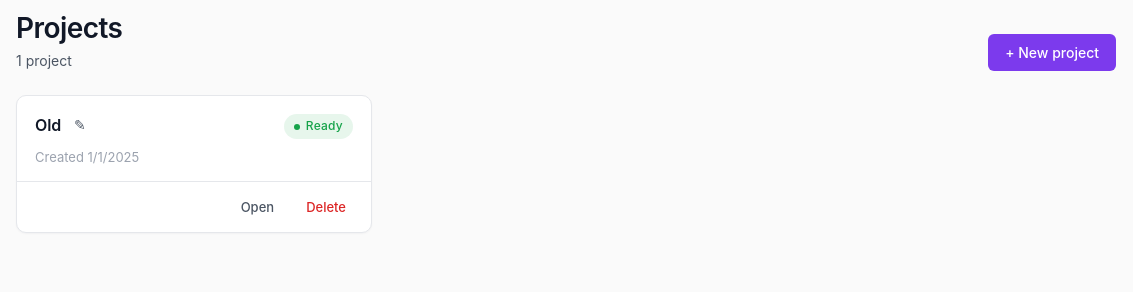
Test: ProjectListPage rename — success path (Requirements 2.2, 6.3, 6.4) › on success updates the row with the returned title/version/updatedAt
Expected: the heading "Old" is shown, [35,114,61,137]
Click the button named "Rename project" at (80, 126), box [67,116,93,136]
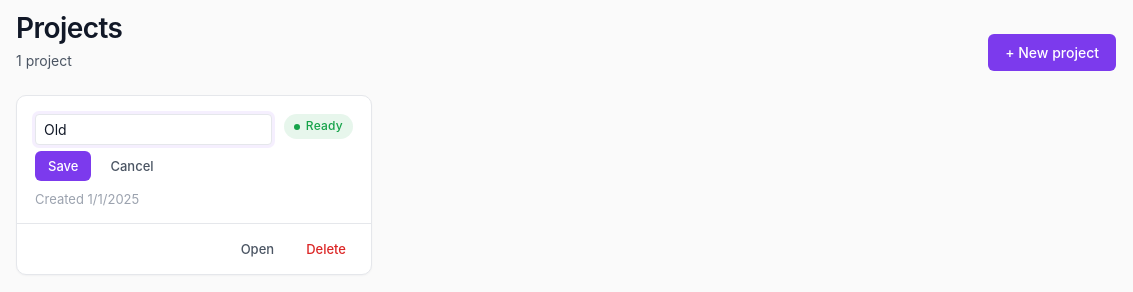
Replace the text in the field named "Project title" with "New" at (153, 130), box [35,114,272,145]
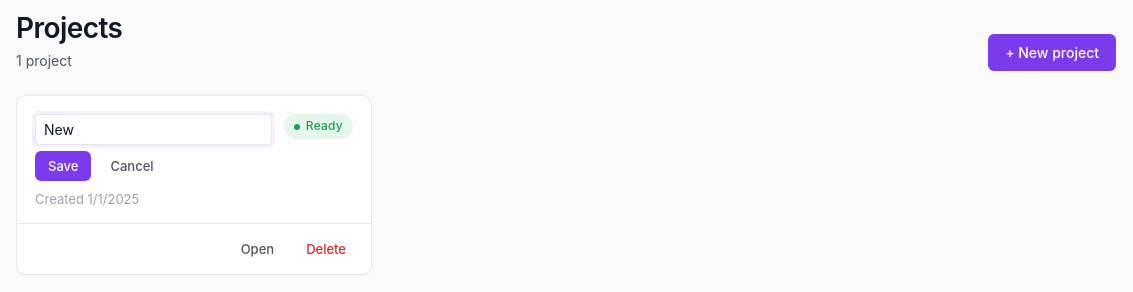
Click the button "Save" at (63, 166), box [35,151,91,181]
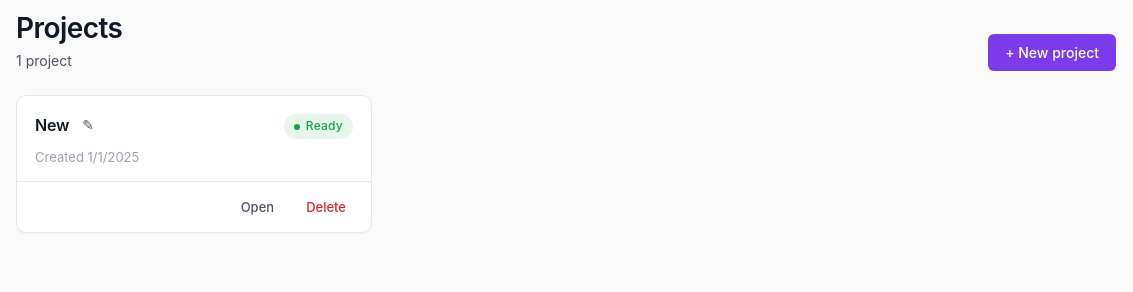
Now the heading "New" is shown, box [35,114,69,137]
Click the button named "Rename project" at (88, 126), box [75,116,101,136]
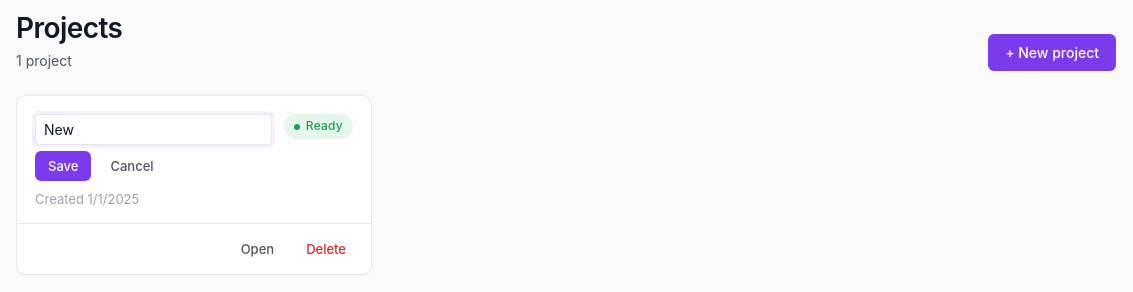
Replace the text in the field named "Project title" with "Newer" at (153, 130), box [35,114,272,145]
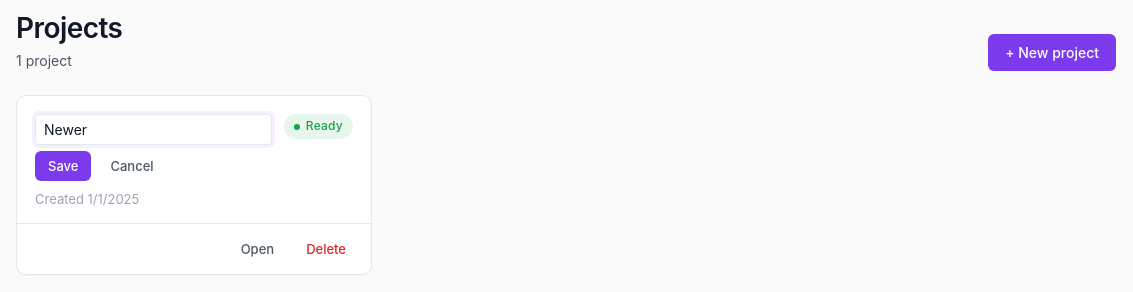
Click the button "Save" at (63, 166), box [35,151,91,181]
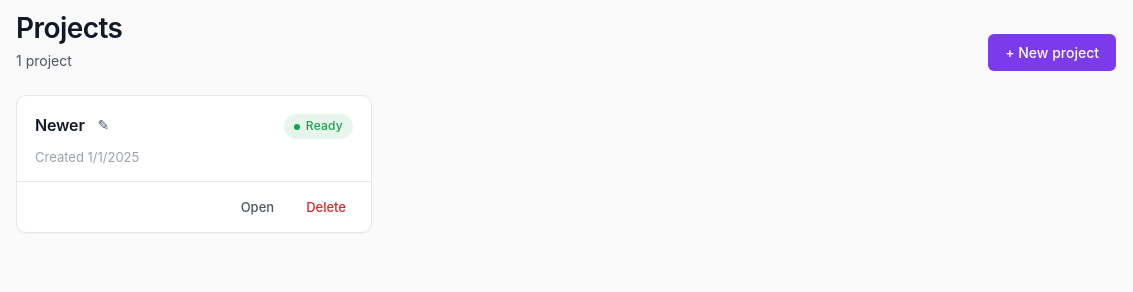
Now the heading "Newer" is shown, box [35,114,85,137]
